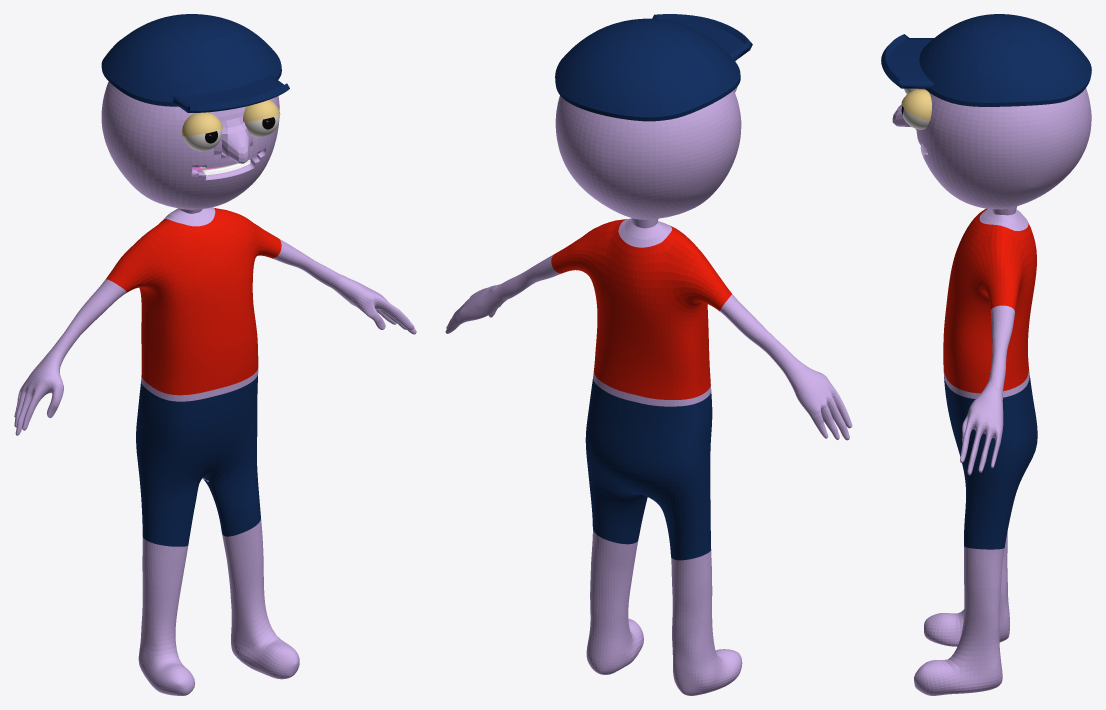
Rendered from RunkaraChar3.fbx.
3 renders of one model, left to right at view 1: azimuth 30°, elevation 25°; view 2: azimuth 150°, elevation 25°; view 3: azimuth 270°, elevation 25°, orthographic. The views are drawn at different scales.
Visible parts, largest first — view 1: stickman, eye.001, eye; view 2: stickman; view 3: stickman, eye.
Part boxes in pixels (x1,y1,x2,y2): stickman: [14, 14, 416, 695]; eye.001: [182, 112, 222, 151]; eye: [243, 99, 280, 137]; stickman: [445, 14, 852, 695]; stickman: [881, 14, 1091, 695]; eye: [901, 89, 931, 129].
Bounding box in the file's own units: 695 × 1081 × 322.
